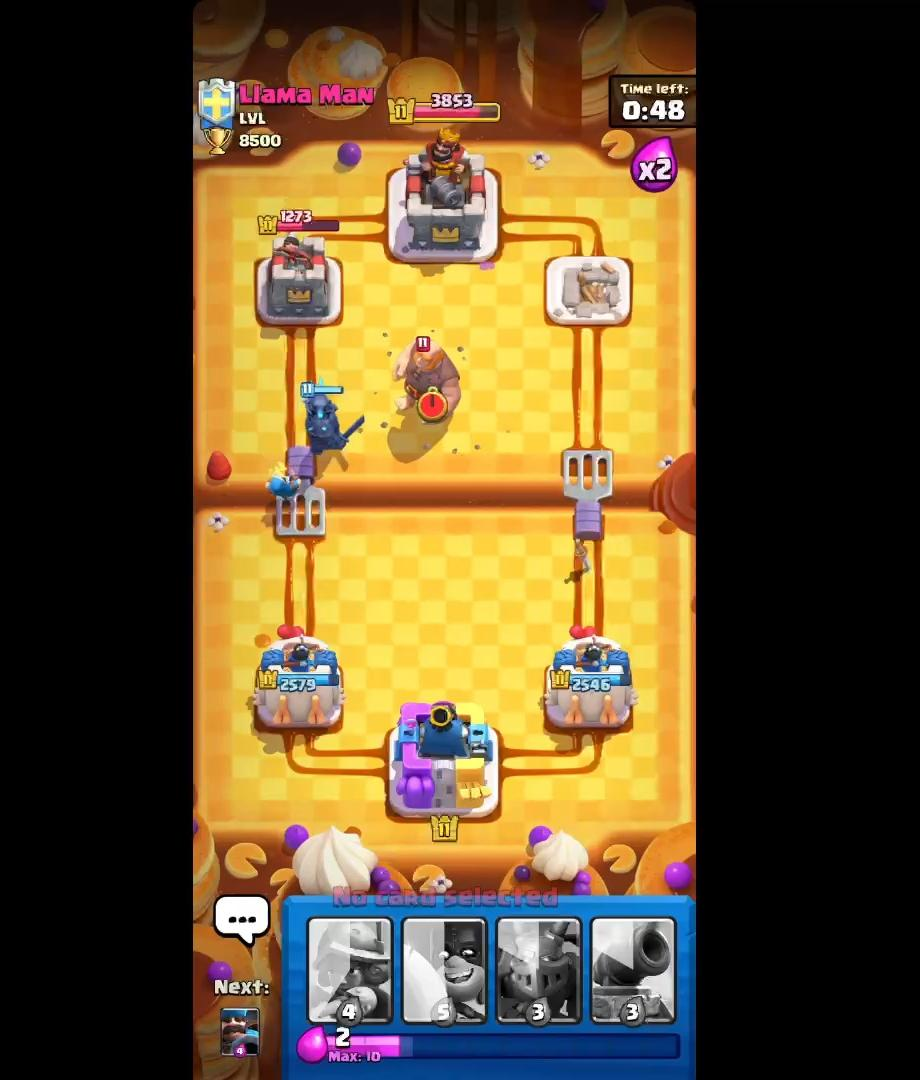Giant: (387, 330, 464, 423)
